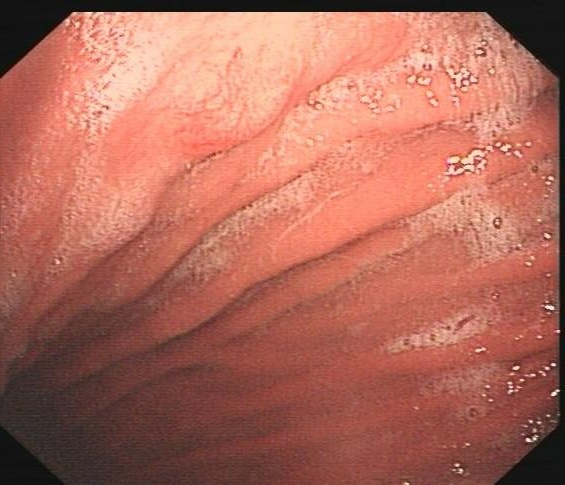Polyp: (176, 35, 307, 157)
